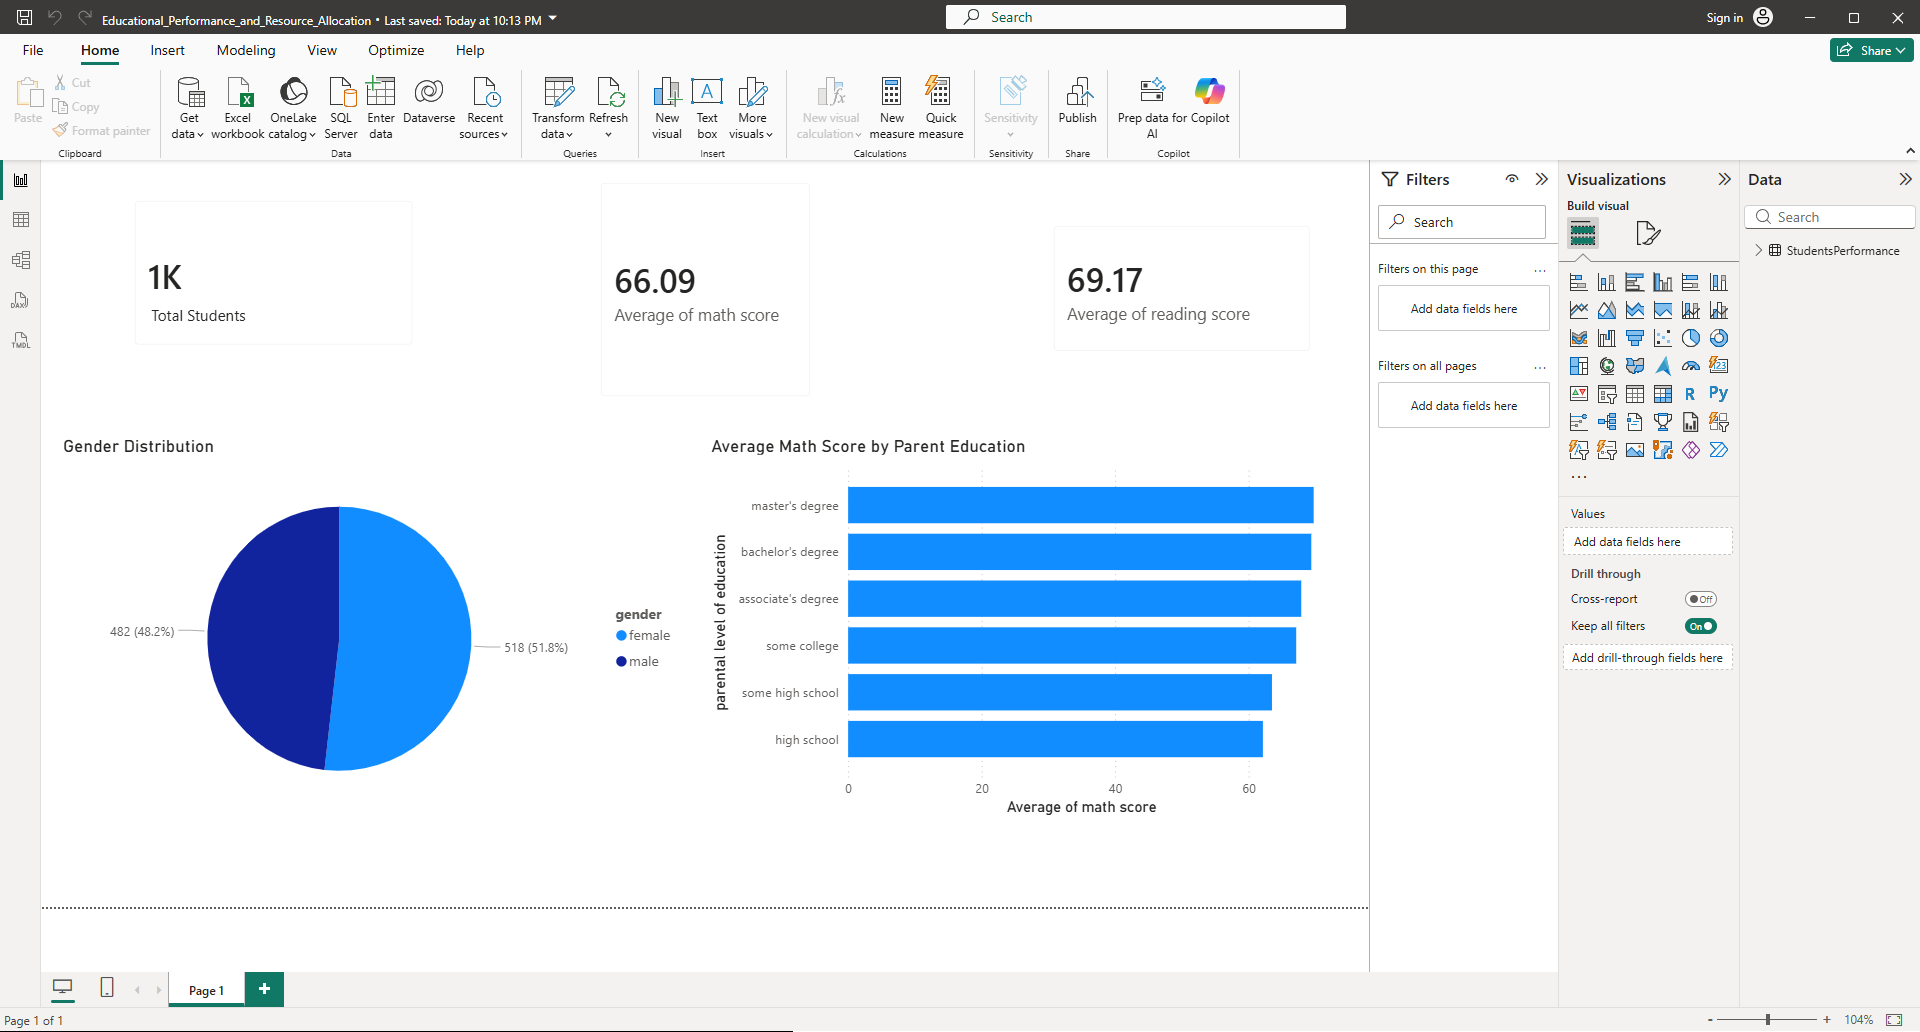

Layout of this report page (visuals, bound fields, positions):
{"tool":"powerbi","page":{"name":"Page 1","canvas":[1280,720],"ordinal":0},"visuals":[{"type":"cardVisual","fields":{"Data":["Avg(StudentsPerformance.math score)"]},"box":[522.2,4.4,236.7,240],"z":0},{"type":"cardVisual","fields":{"Data":["Avg(StudentsPerformance.reading score)"]},"box":[959.4,46.5,281.1,155.6],"z":1000},{"type":"pieChart","title":"Gender Distribution","fields":{"Category":["StudentsPerformance.gender"],"Y":["CountNonNull(StudentsPerformance.gender)"]},"box":[16.3,264.8,606.3,371.7],"z":2000},{"type":"clusteredBarChart","title":"Average Math Score by Parent Education","fields":{"Category":["StudentsPerformance.parental level of education"],"Y":["Avg(StudentsPerformance.math score)"]},"box":[641.2,264.8,599.3,371.7],"z":3000},{"type":"cardVisual","fields":{"Data":["CountNonNull(StudentsPerformance.gender)"]},"box":[73.3,22.2,302.2,173.3],"z":4000},{"type":"textbox","box":[101.1,134.4,217.8,32.2],"z":5000}]}

Visuals, with their boxes on the page's 1280x720 design canvas (x1, y1, x2, y2). These are canvas units, not pixel positions in the 1920x1032 screenshot, which may show the page scaled, cropped or inside an application window:
cardVisual - Avg(StudentsPerformance.math score): 522:4:759:244
cardVisual - Avg(StudentsPerformance.reading score): 959:46:1240:202
"Gender Distribution" pieChart: 16:265:623:636
"Average Math Score by Parent Education" clusteredBarChart: 641:265:1240:636
cardVisual - CountNonNull(StudentsPerformance.gender): 73:22:376:196
textbox: 101:134:319:167
